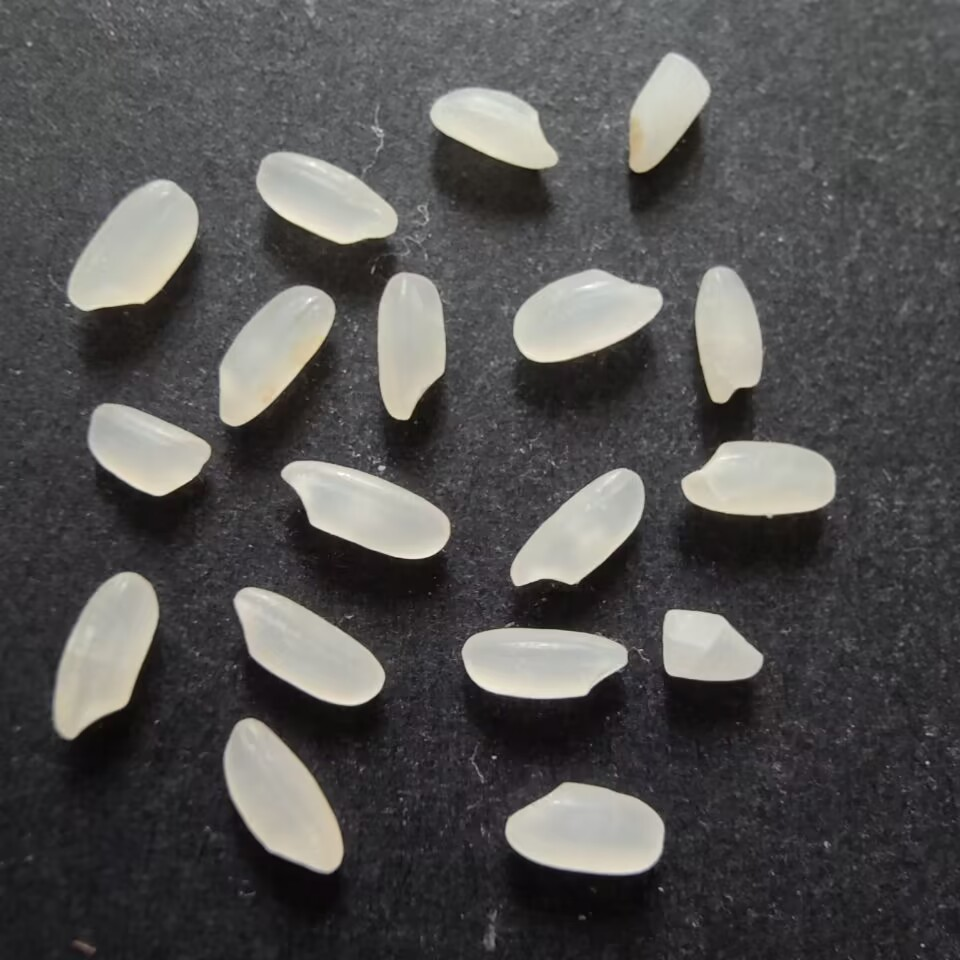broken: (82, 400, 215, 500), (620, 48, 717, 181), (658, 604, 769, 688)
rice: (221, 712, 349, 877), (62, 172, 204, 316), (227, 585, 391, 708), (51, 567, 161, 749), (209, 279, 338, 431), (276, 458, 457, 566), (509, 464, 649, 592), (497, 778, 670, 877), (504, 262, 670, 364), (251, 149, 403, 247), (454, 625, 633, 702), (676, 437, 839, 519), (370, 268, 451, 426), (422, 84, 567, 171), (692, 258, 768, 411)
